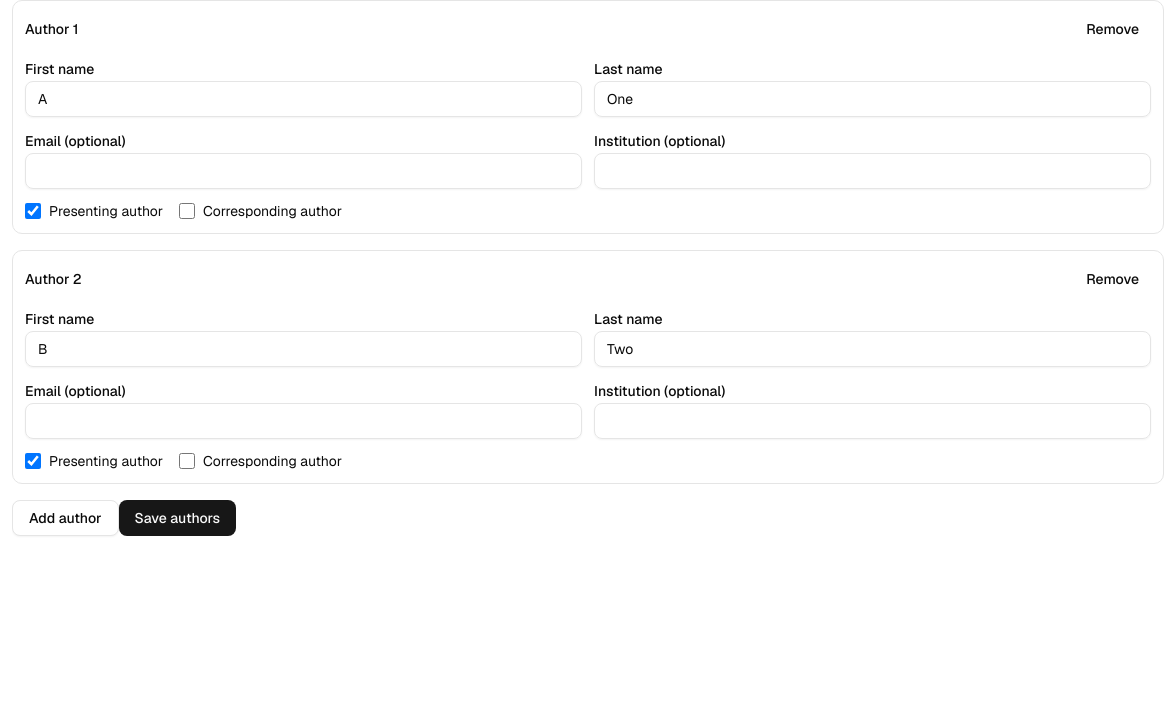
Scenario: AuthorListEditor › rejects submitting with two presenting authors
The width and height of the screenshot is (1164, 720).
Click the button "Save authors". click: (177, 518)
box: x1=118 y1=500 x2=236 y2=536
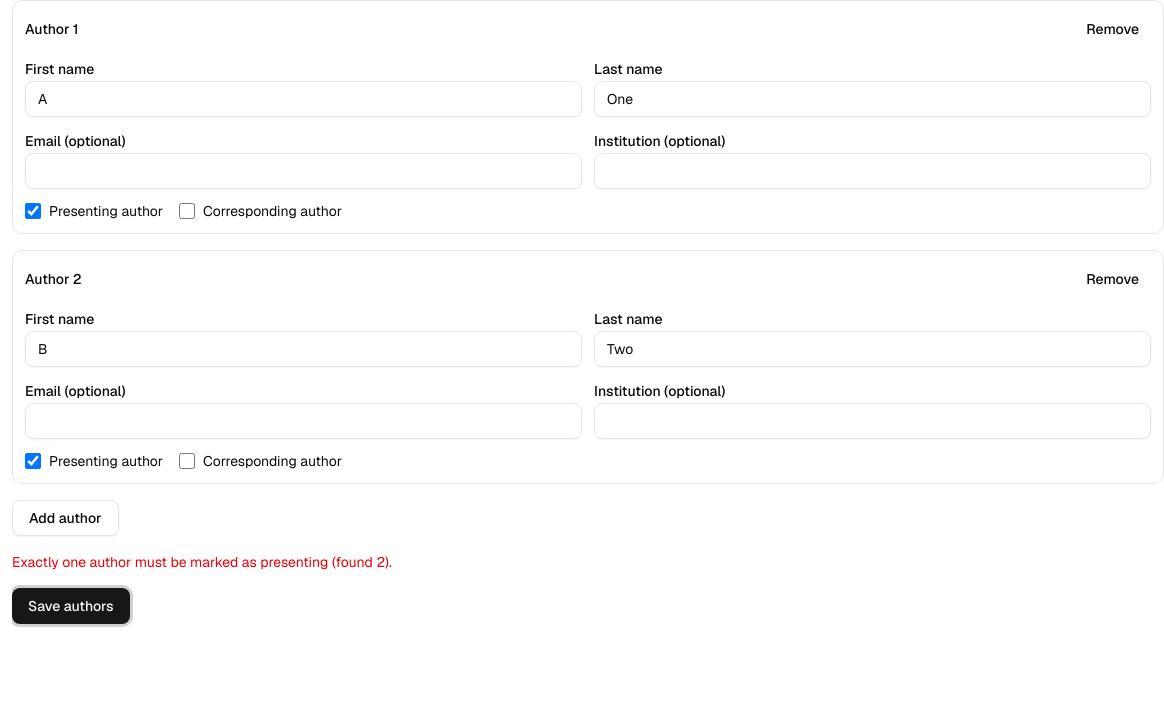
Expected: the message shows "Exactly one author must be marked as presenting", x1=12 y1=553 x2=392 y2=571
